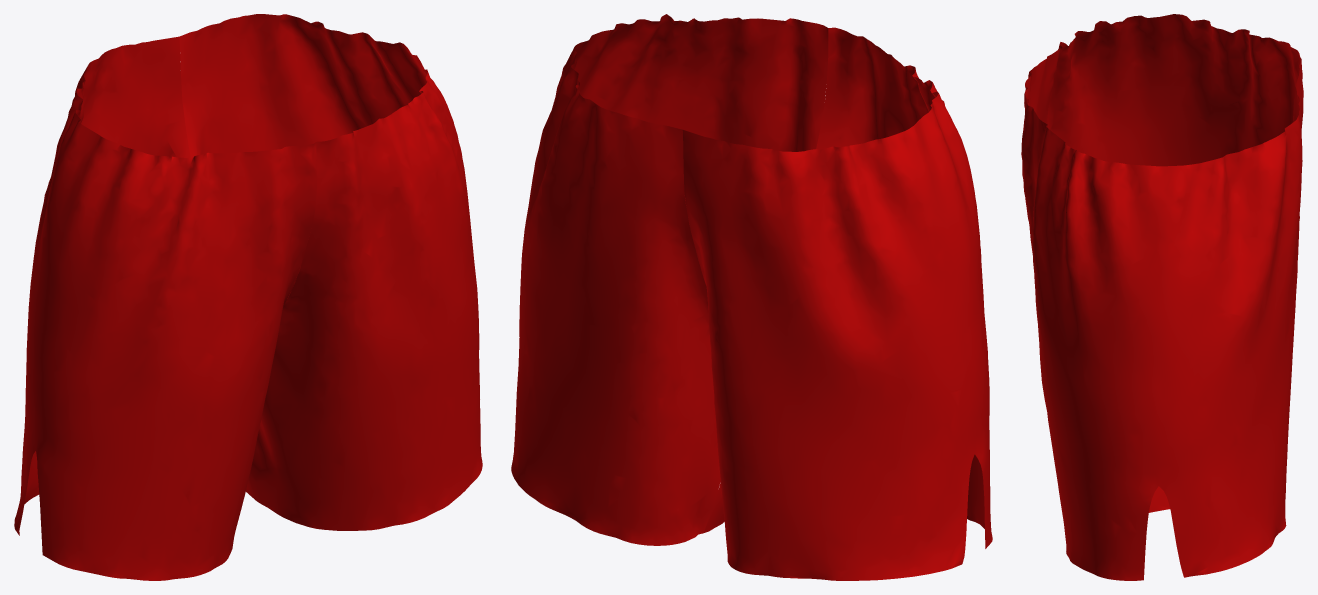
File: body_side-slit.glb
3 views of the same model, side by side, from view 1: azimuth 30°, elevation 25°; view 2: azimuth 150°, elevation 25°; view 3: azimuth 270°, elevation 25° (orthographic). The views are drawn at different scales.
Parts seen in each view (by area): view 1: body_side-slit; view 2: body_side-slit; view 3: body_side-slit.
Part boxes in pixels (left/top/right/bottom): body_side-slit: left=14, top=14, right=482, bottom=580; body_side-slit: left=511, top=14, right=992, bottom=580; body_side-slit: left=1021, top=14, right=1303, bottom=580.
Size of the model in its own units: 2.11 by 2.03 by 1.24.
